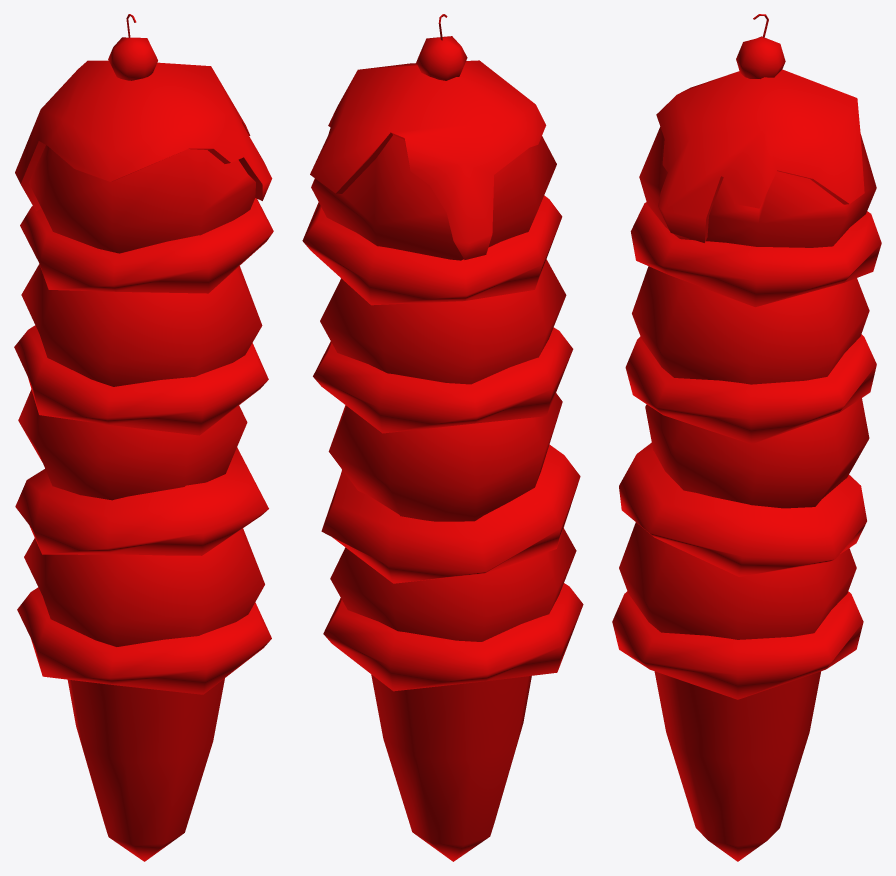
Rendered from Asset_IceCream_01.glb.
3 views of the same model, side by side, from view 1: azimuth 30°, elevation 25°; view 2: azimuth 150°, elevation 25°; view 3: azimuth 270°, elevation 25° (orthographic). The views are drawn at different scales.
Visible parts, largest first — view 1: Asset_IceCream_01; view 2: Asset_IceCream_01; view 3: Asset_IceCream_01.
Boxes of the visible parts, x1,y1,x2,y2 form: Asset_IceCream_01: [14, 14, 273, 861]; Asset_IceCream_01: [302, 14, 583, 861]; Asset_IceCream_01: [612, 14, 881, 861].
Bounding box in the file's own units: 0.1832 × 0.6479 × 0.1869.
